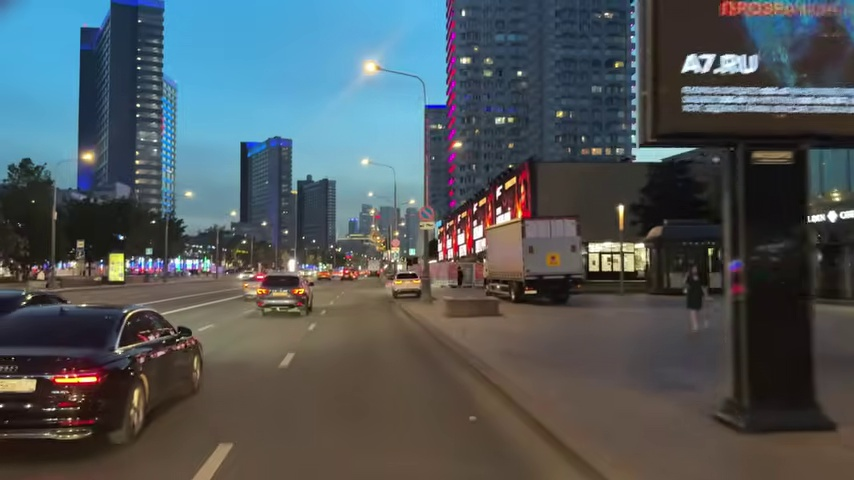acesa: (362, 59, 380, 76), (80, 149, 98, 166), (358, 156, 372, 169), (183, 188, 196, 201)
